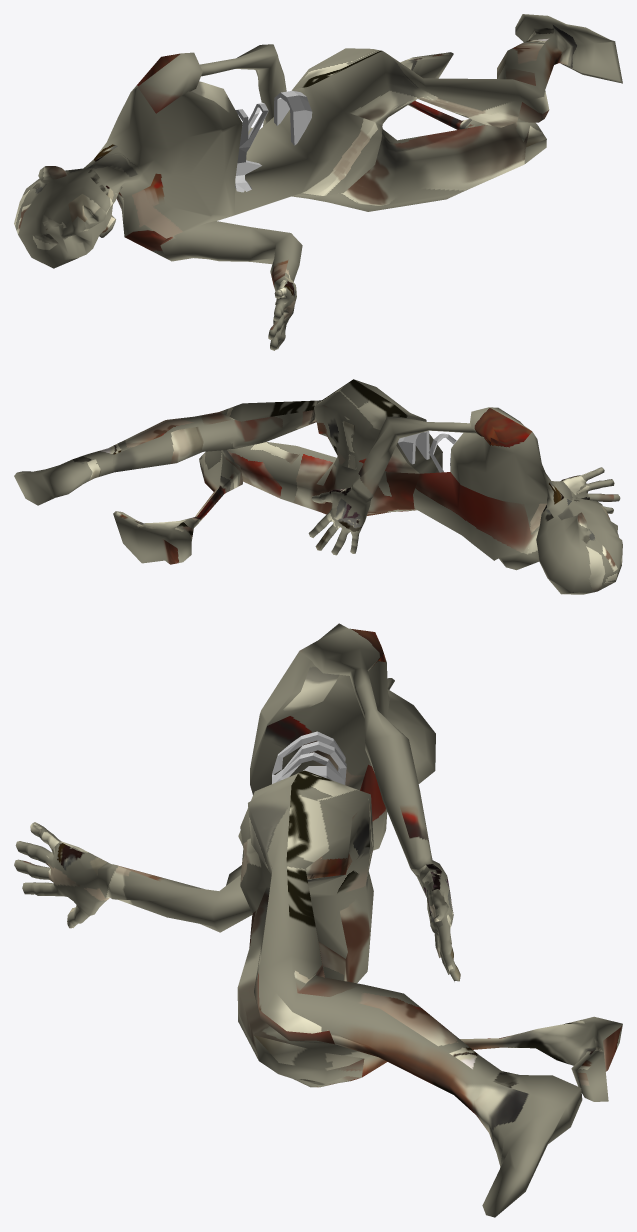
The model's file is zombie.obj.
The picture shows the model from 3 angles, top to bottom: view 1: azimuth 30°, elevation 25°; view 2: azimuth 150°, elevation 25°; view 3: azimuth 270°, elevation 25°; orthographic projection. The views are drawn at different scales.
Visible parts, largest first — view 1: Main__Hips_; view 2: Main__Hips_; view 3: Main__Hips_.
Part boxes in pixels (x1=…): Main__Hips_: x1=14, y1=14, x2=622, y2=350; Main__Hips_: x1=14, y1=379, x2=622, y2=594; Main__Hips_: x1=14, y1=623, x2=622, y2=1217.
Bounding box in the file's own units: 1.79 × 0.5814 × 1.06.
